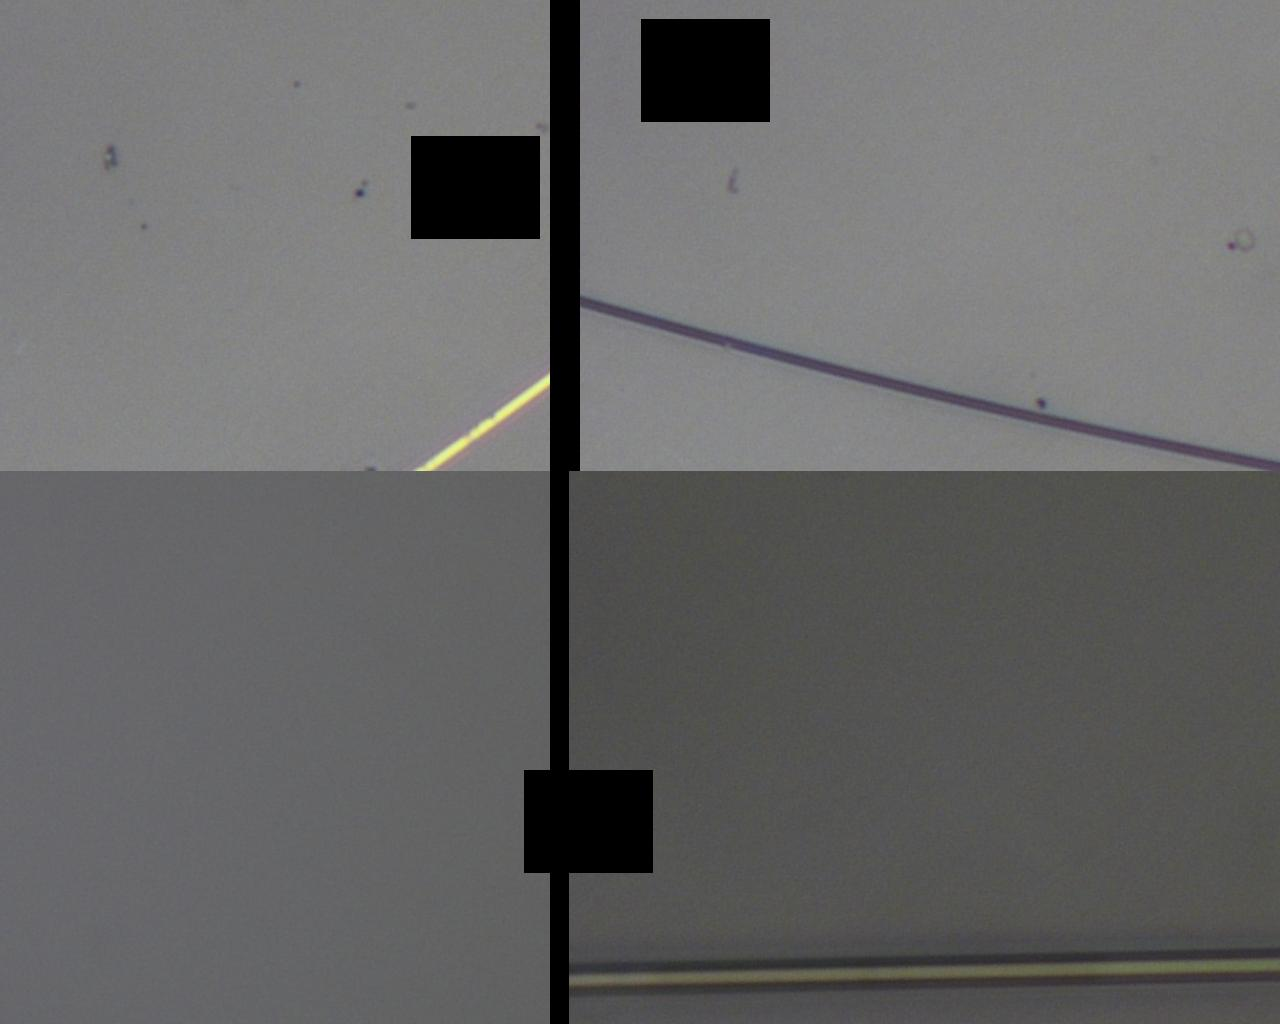fiber: (0, 301, 1280, 939)
